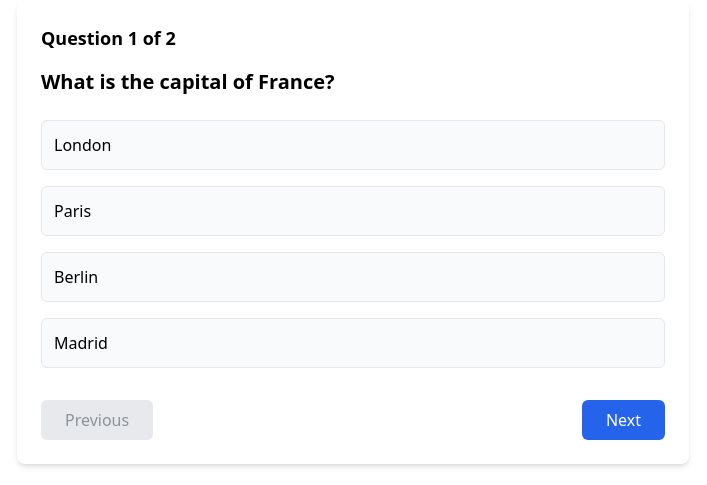
it: QuizView › navigates to the next question
Click the button with test id "next-button". click: x=623, y=420
box: [582,400,665,440]
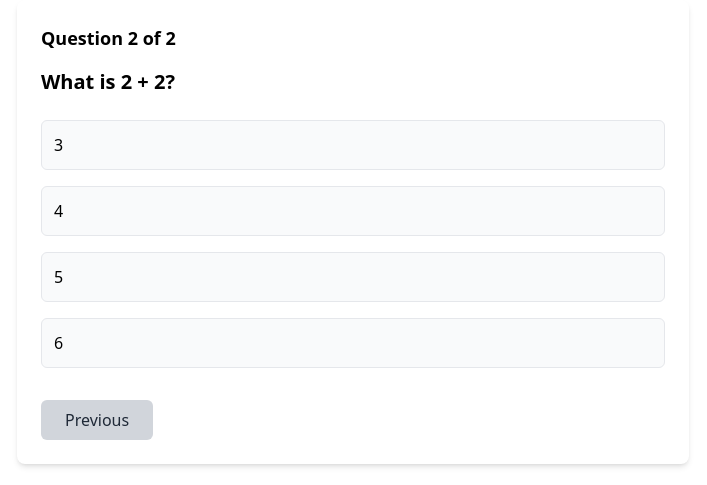
Expected: the text "Question 2 of 2" is shown, [41,26,176,50]
Expected: the heading "What is 2 + 2?" is shown, [41,68,175,95]
